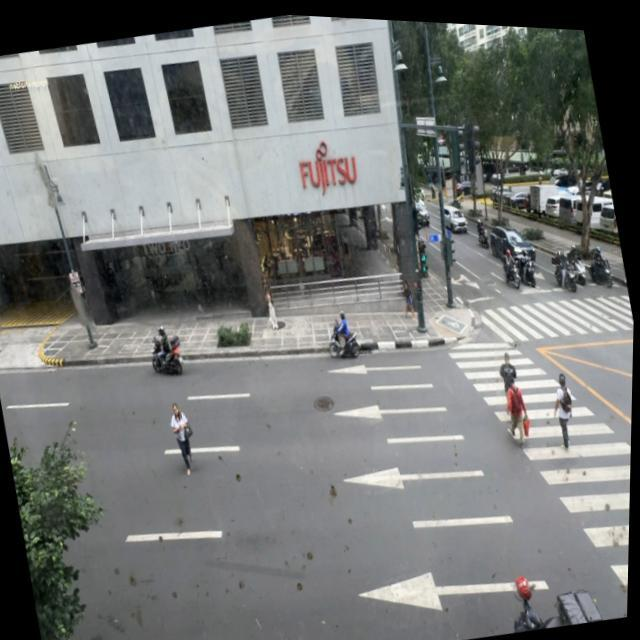jaywalking: (166, 404, 200, 478)
